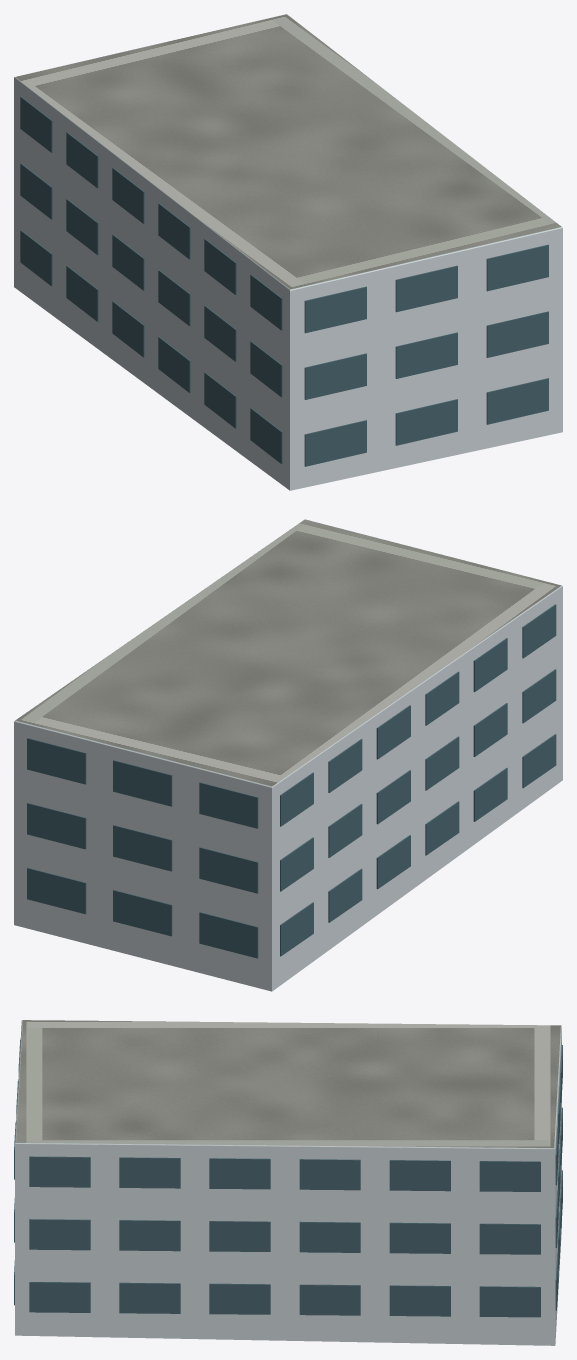
File: intact.glb
3 renders of one model, top to bottom at view 1: azimuth 30°, elevation 25°; view 2: azimuth 150°, elevation 25°; view 3: azimuth 270°, elevation 25°, orthographic. The views are drawn at different scales.
Parts seen in each view (by area): view 1: SM_osm-468931854_Intact_00, SM_osm-468931854_Intact_01; view 2: SM_osm-468931854_Intact_00, SM_osm-468931854_Intact_01; view 3: SM_osm-468931854_Intact_00, SM_osm-468931854_Intact_01.
Part boxes in pixels (box(x1,y1,x2,y2)): SM_osm-468931854_Intact_00: box(14, 14, 562, 490); SM_osm-468931854_Intact_01: box(20, 96, 548, 466); SM_osm-468931854_Intact_00: box(14, 519, 562, 991); SM_osm-468931854_Intact_01: box(27, 604, 556, 958); SM_osm-468931854_Intact_00: box(15, 1020, 561, 1345); SM_osm-468931854_Intact_01: box(14, 1039, 562, 1317).
Size of the model in its own units: 1.23 by 0.8737 by 2.2.
Materials: 4 (1 with a texture image).
